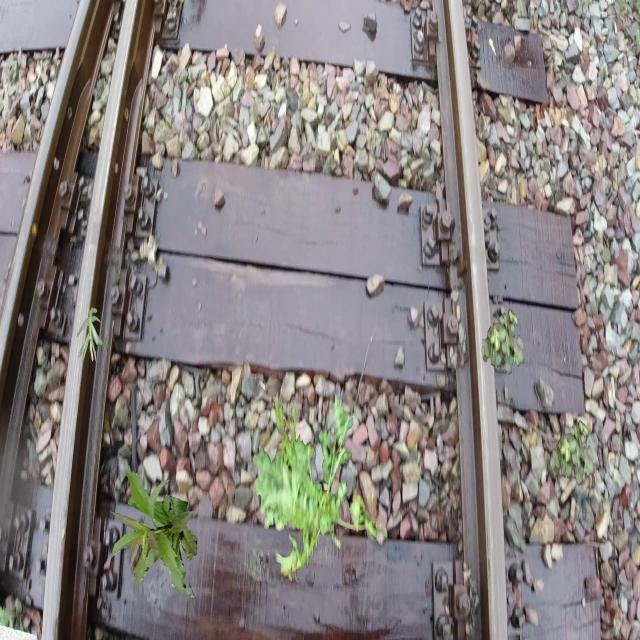Plant: (253, 389, 378, 585), (109, 469, 198, 599), (552, 419, 596, 486), (481, 309, 524, 376), (77, 307, 104, 364)
